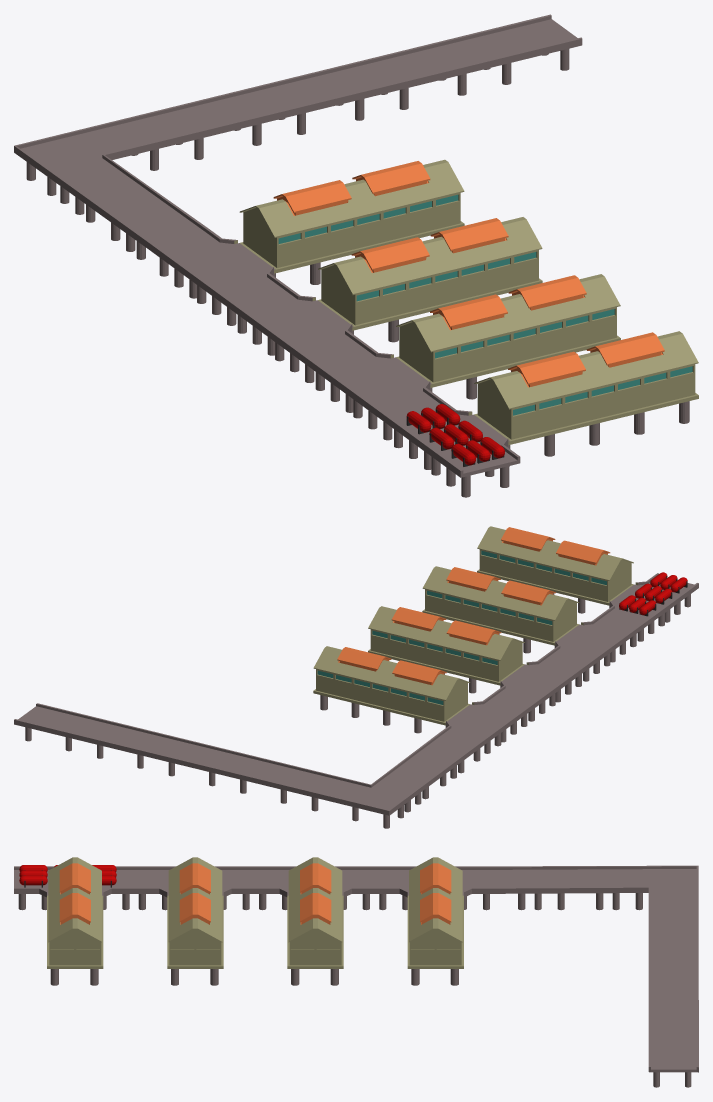
File: liman.fbx
3 renders of one model, top to bottom at view 1: azimuth 30°, elevation 25°; view 2: azimuth 150°, elevation 25°; view 3: azimuth 270°, elevation 25°, orthographic. The views are drawn at different scales.
Visible parts, largest first — view 1: port; view 2: port; view 3: port.
Part boxes in pixels (<box>): port: <box>14,14,698,497</box>; port: <box>14,526,698,828</box>; port: <box>14,857,698,1087</box>.
Size of the model in its own units: 7749 by 1135 by 11126.
